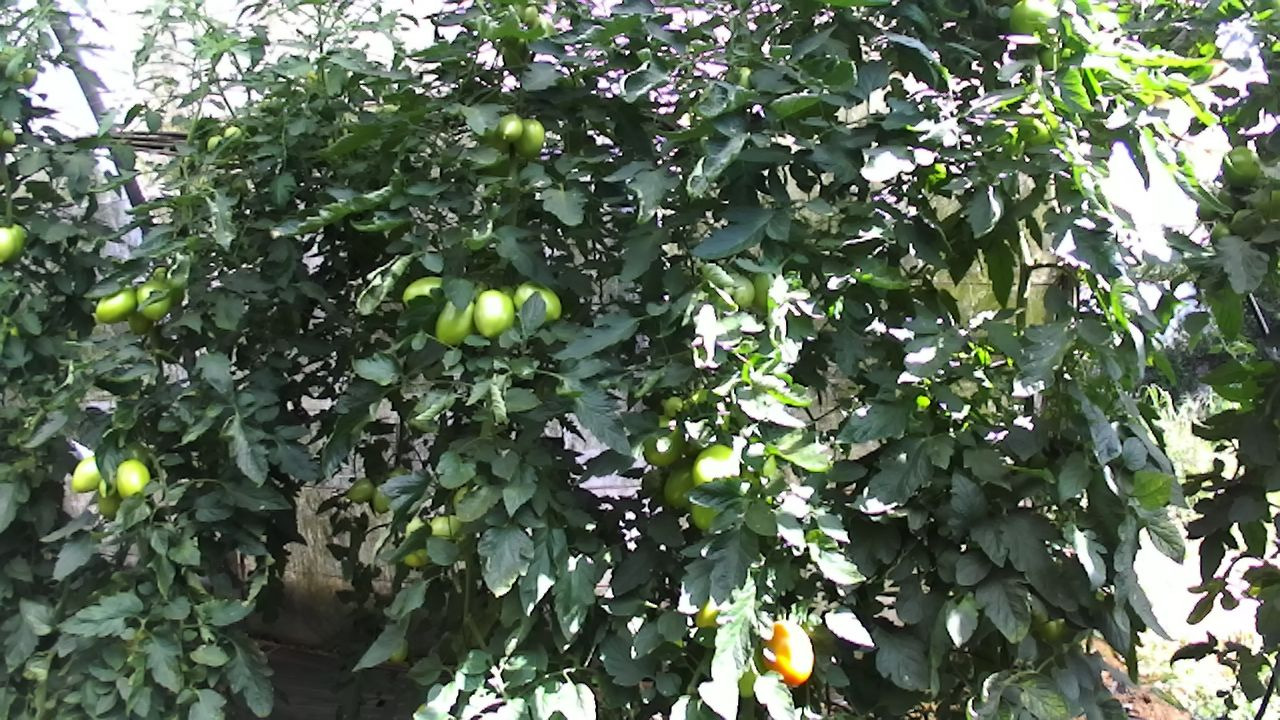tomato: (757, 617, 818, 691), (687, 438, 744, 499), (509, 274, 568, 329), (662, 453, 705, 513), (470, 286, 516, 342), (433, 297, 477, 348), (92, 282, 141, 327), (133, 276, 177, 324), (111, 454, 153, 503), (68, 451, 110, 498), (514, 113, 546, 161), (0, 220, 26, 266), (495, 109, 525, 145), (346, 474, 376, 503), (0, 125, 18, 149)
